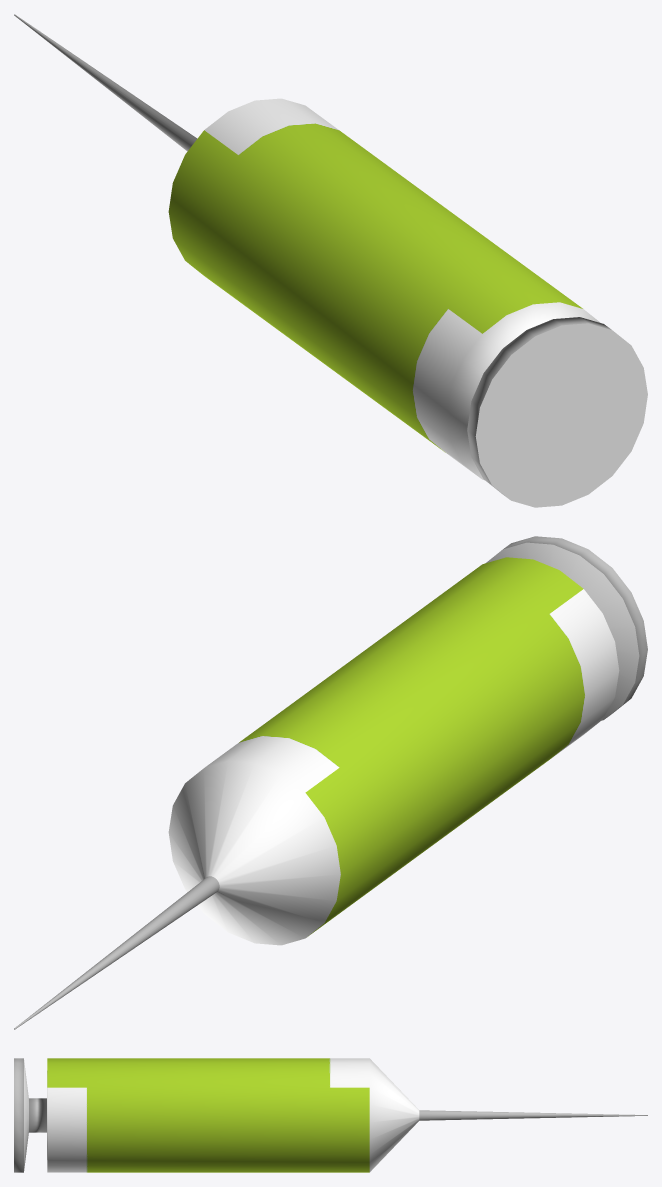
The model's file is M_Syringe.fbx.
3 views of the same model, one above another, from view 1: azimuth 30°, elevation 25°; view 2: azimuth 150°, elevation 25°; view 3: azimuth 270°, elevation 25° (orthographic). The views are drawn at different scales.
Parts seen in each view (by area): view 1: pCylinder1; view 2: pCylinder1; view 3: pCylinder1.
Part boxes in pixels (x1,y1,x2,y2): pCylinder1: (14,14,647,507); pCylinder1: (14,536,647,1029); pCylinder1: (14,1058,647,1172).
Size of the model in its own units: 0.7442 by 0.7442 by 4.1.
Materials: 1 (1 with a texture image).
